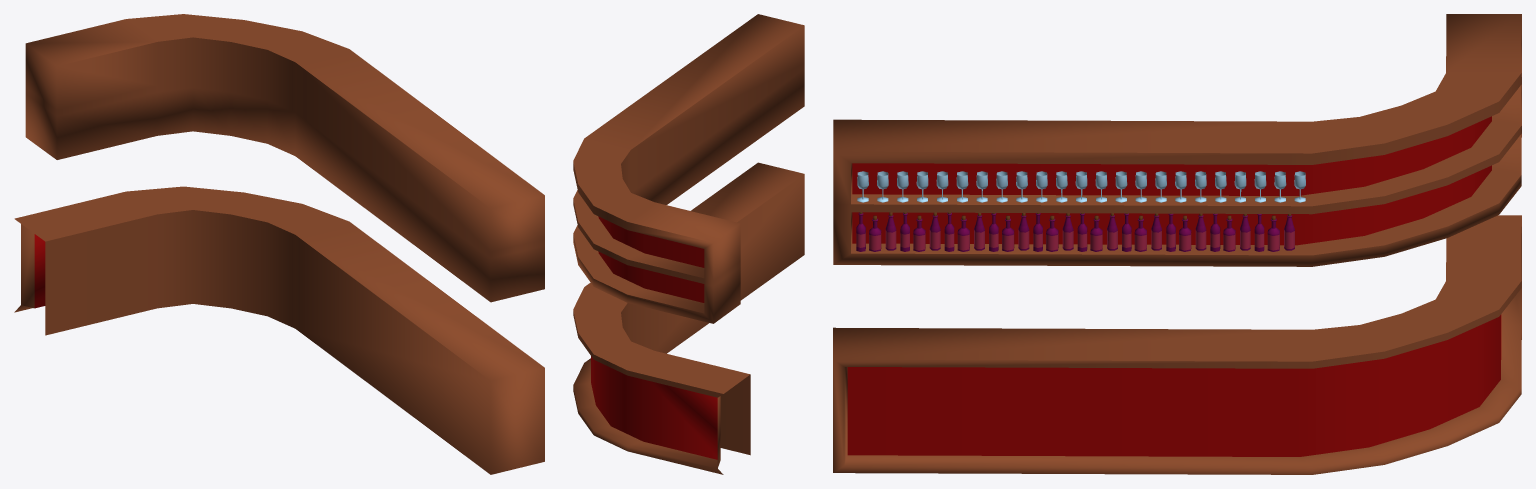
Rendered from BarCounter.fbx.
3 renders of one model, left to right at view 1: azimuth 30°, elevation 25°; view 2: azimuth 150°, elevation 25°; view 3: azimuth 270°, elevation 25°, orthographic. The views are drawn at different scales.
Parts seen in each view (by area): view 1: Mesh_BarCounter; view 2: Mesh_BarCounter; view 3: Mesh_BarCounter, Mesh_Bottles.001, Mesh_Cup.001.
Boxes of the visible parts, left/top/right/bottom form: Mesh_BarCounter: left=14, top=14, right=544, bottom=474; Mesh_BarCounter: left=573, top=14, right=804, bottom=474; Mesh_BarCounter: left=833, top=14, right=1521, bottom=474; Mesh_Bottles.001: left=856, top=212, right=1294, bottom=251; Mesh_Cup.001: left=857, top=171, right=1305, bottom=202.
Bounding box in the file's own units: 236 × 242 × 470.
